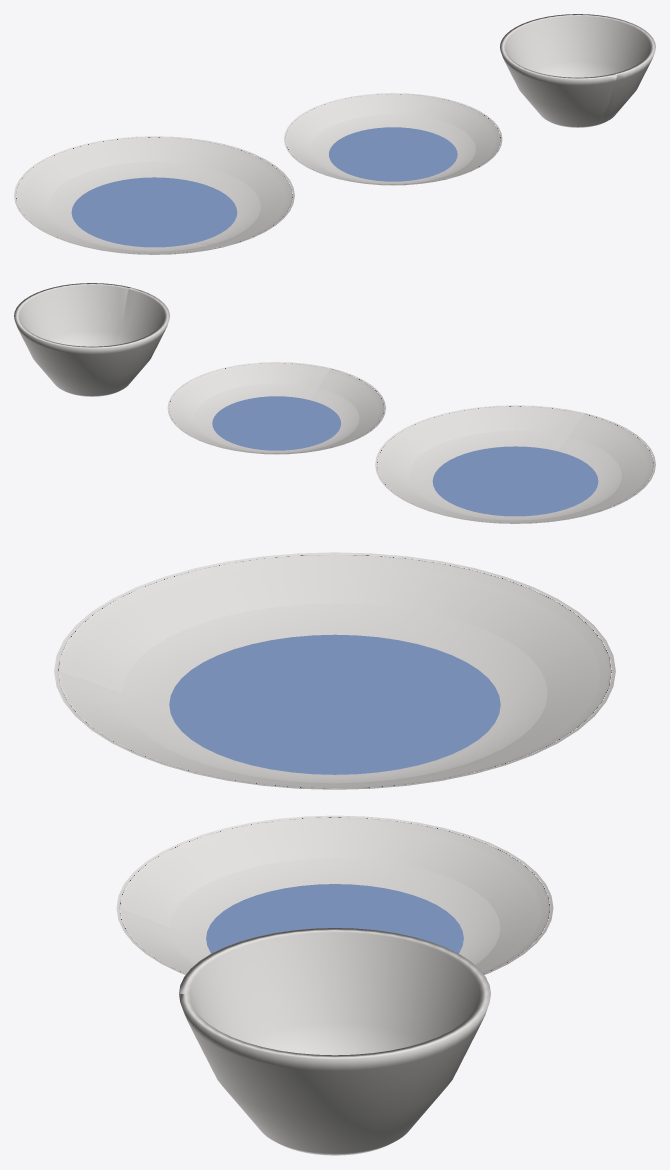
3 views of the same model, one above another, from view 1: azimuth 30°, elevation 25°; view 2: azimuth 150°, elevation 25°; view 3: azimuth 270°, elevation 25° (orthographic). The views are drawn at different scales.
Size of the model in its own units: 0.68 by 0.07 by 0.27.
